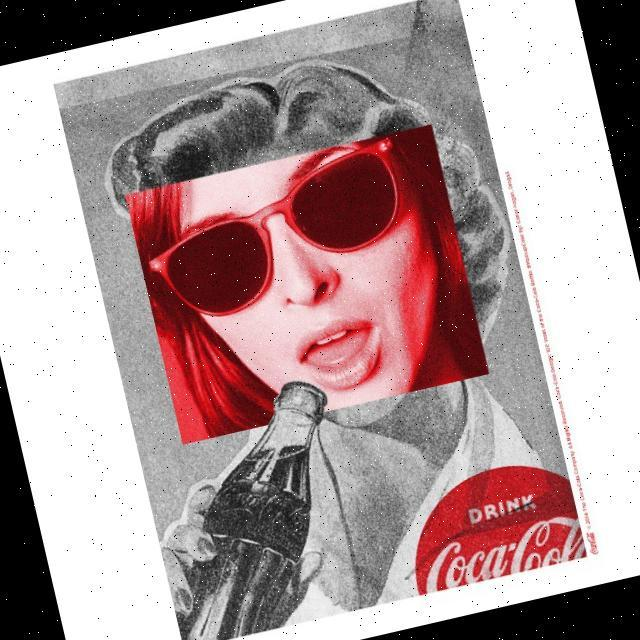coca-cola: (131, 373, 376, 640)
